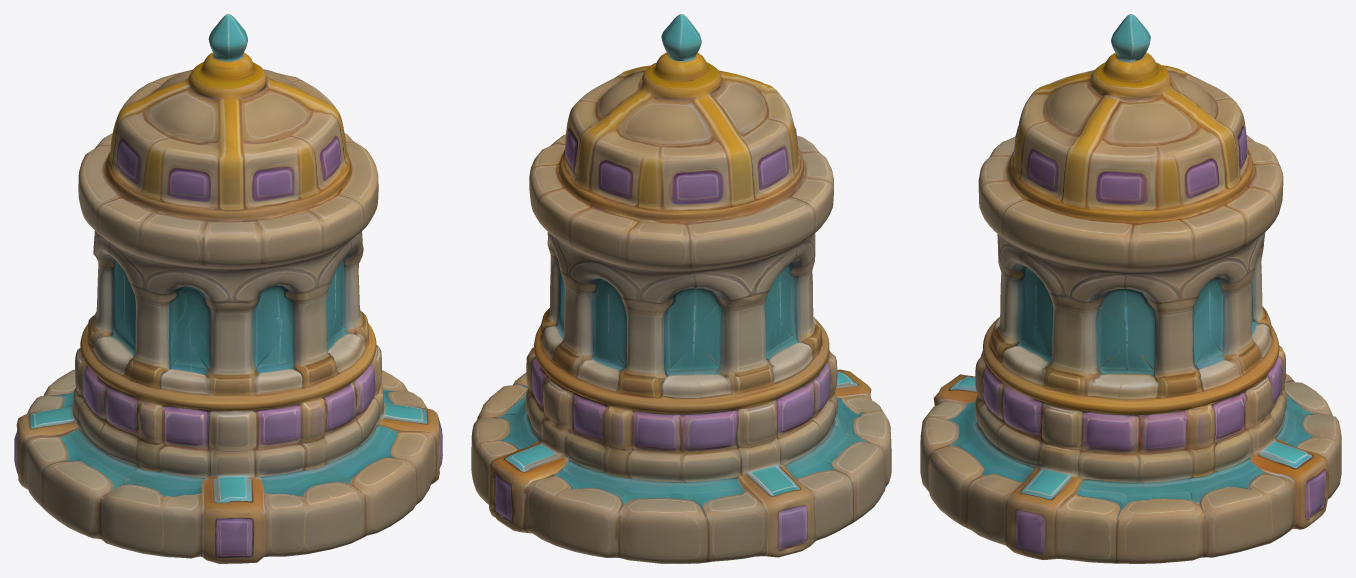
File: 06-garden-lantern-tower.glb
3 renders of one model, left to right at view 1: azimuth 30°, elevation 25°; view 2: azimuth 150°, elevation 25°; view 3: azimuth 270°, elevation 25°, orthographic.
Visible parts, largest first — view 1: tripo_node_c38f1459; view 2: tripo_node_c38f1459; view 3: tripo_node_c38f1459.
Part boxes in pixels (x1,y1,x2,y2): tripo_node_c38f1459: (14,14,442,563); tripo_node_c38f1459: (471,14,891,563); tripo_node_c38f1459: (920,14,1341,563).
Bounding box in the file's own units: 0.2431 × 0.3 × 0.2456.
1 material, 1 textured.
